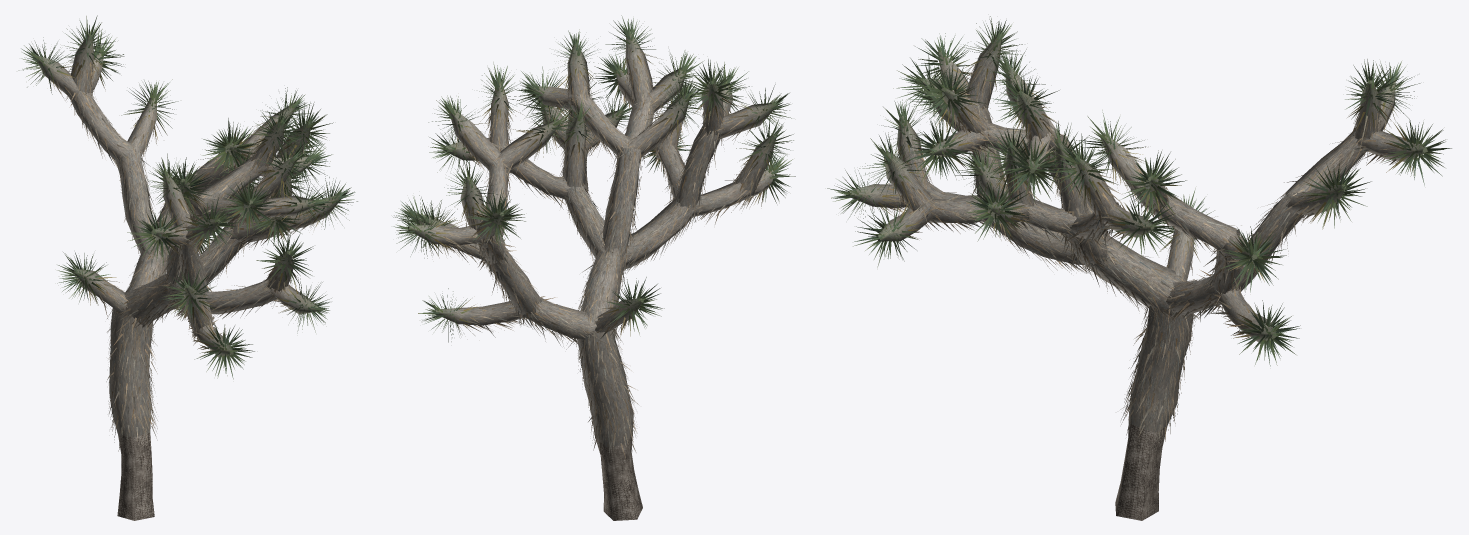
The model's file is joshua_c_lod1.glb.
3 renders of one model, left to right at view 1: azimuth 30°, elevation 25°; view 2: azimuth 150°, elevation 25°; view 3: azimuth 270°, elevation 25°, orthographic. The views are drawn at different scales.
Parts seen in each view (by area): view 1: joshua_c_lod1; view 2: joshua_c_lod1; view 3: joshua_c_lod1.
Part boxes in pixels (x1,y1,x2,y2): joshua_c_lod1: [18, 15, 357, 520]; joshua_c_lod1: [393, 15, 795, 520]; joshua_c_lod1: [827, 16, 1451, 520].
Size of the model in its own units: 4.73 by 6.95 by 8.03.
Materials: 3 (3 with a texture image).
